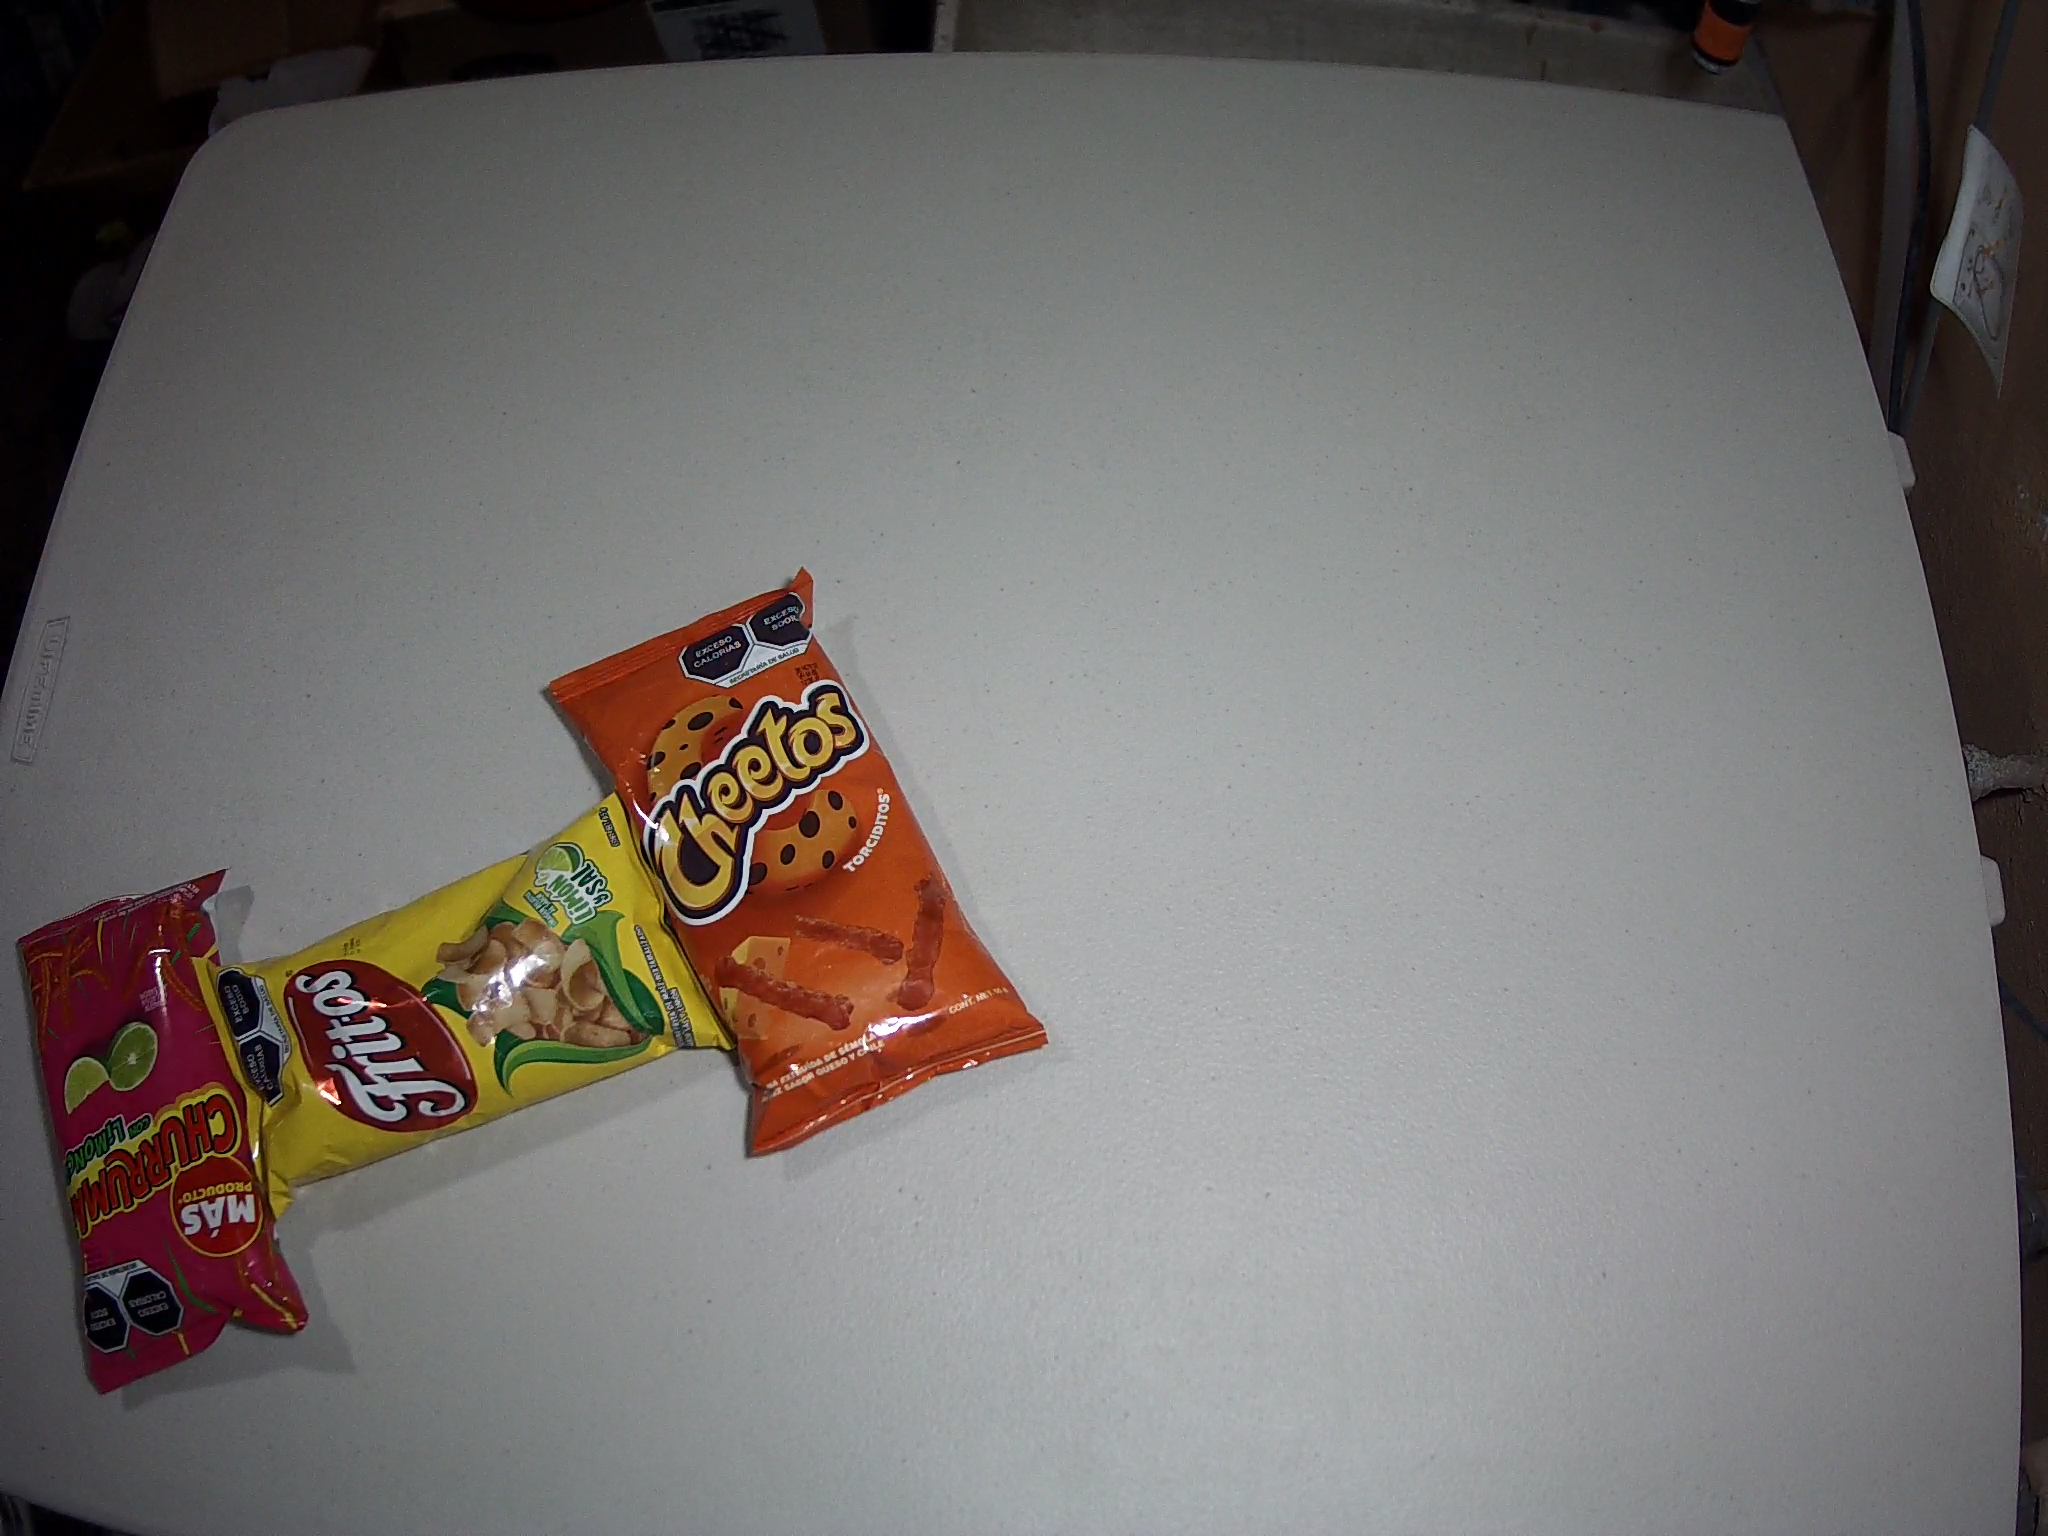CheetosTorciditos_55_F: (545, 570, 1050, 1158)
Churrumais_70_F: (16, 863, 308, 1396)
FritosSalLimon_65_F: (190, 787, 742, 1217)
